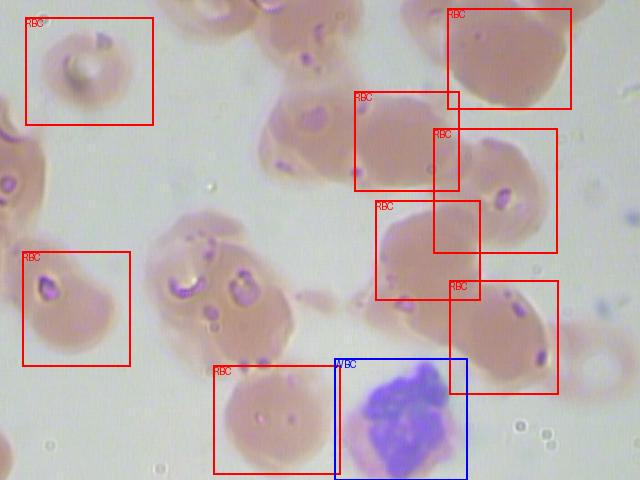RBC: (433, 128, 557, 253), (213, 365, 340, 474), (25, 17, 153, 125), (447, 8, 571, 109), (449, 280, 558, 394), (22, 251, 130, 366), (375, 200, 480, 300), (354, 91, 459, 191)
WBC: (334, 358, 467, 480)
